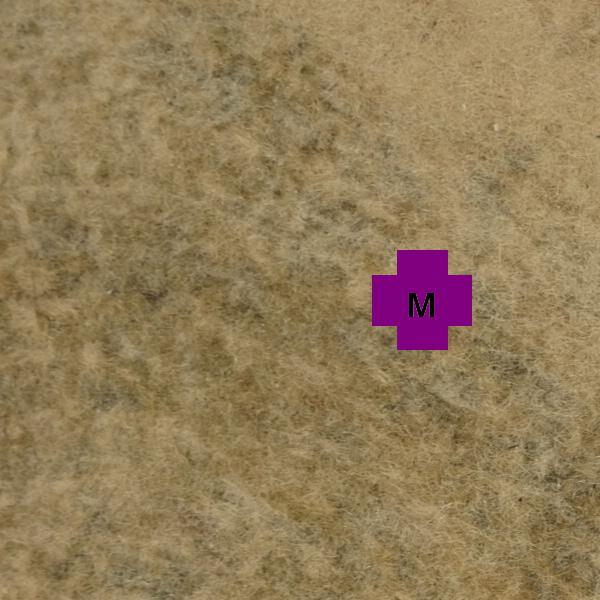Cross: (372, 250, 472, 350)
